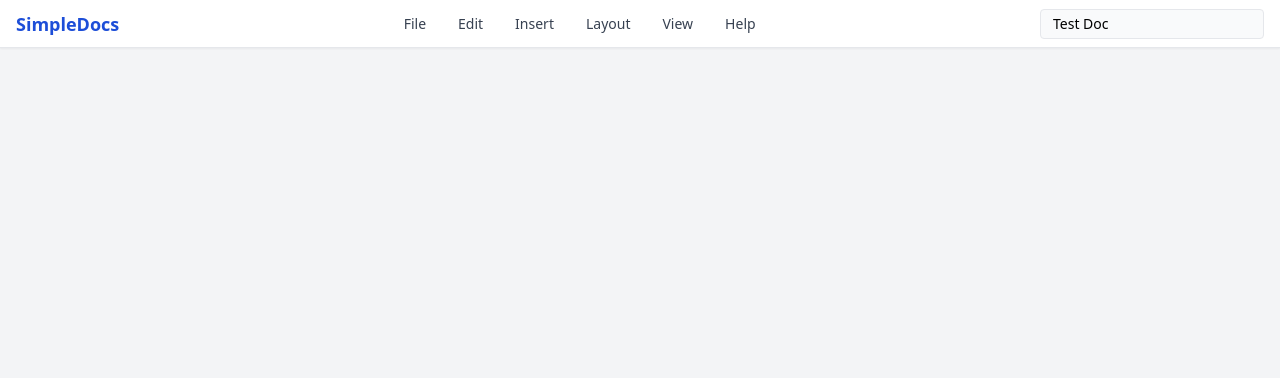
Test case: Navbar — menu close behavior › Insert menu › closes after clicking Image
The width and height of the screenshot is (1280, 378).
Click the button "Insert" at (534, 24), box 507,10 -> 562,38
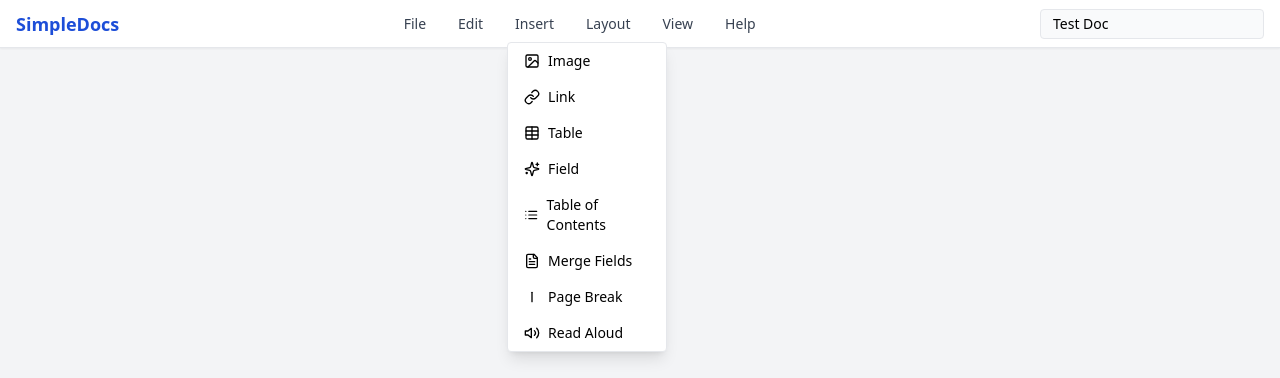
Click the button "Image" at (587, 60), box 508,42 -> 666,78
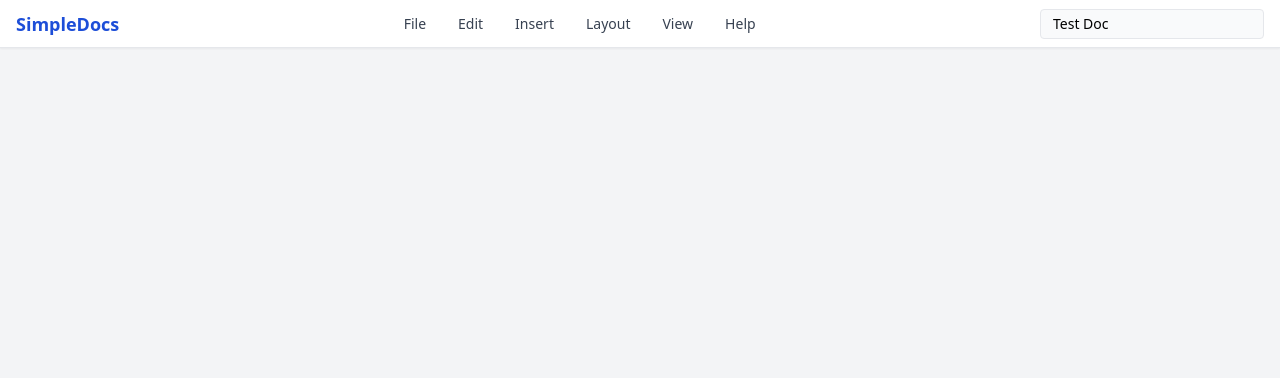
Expected: the button "Image" is gone
